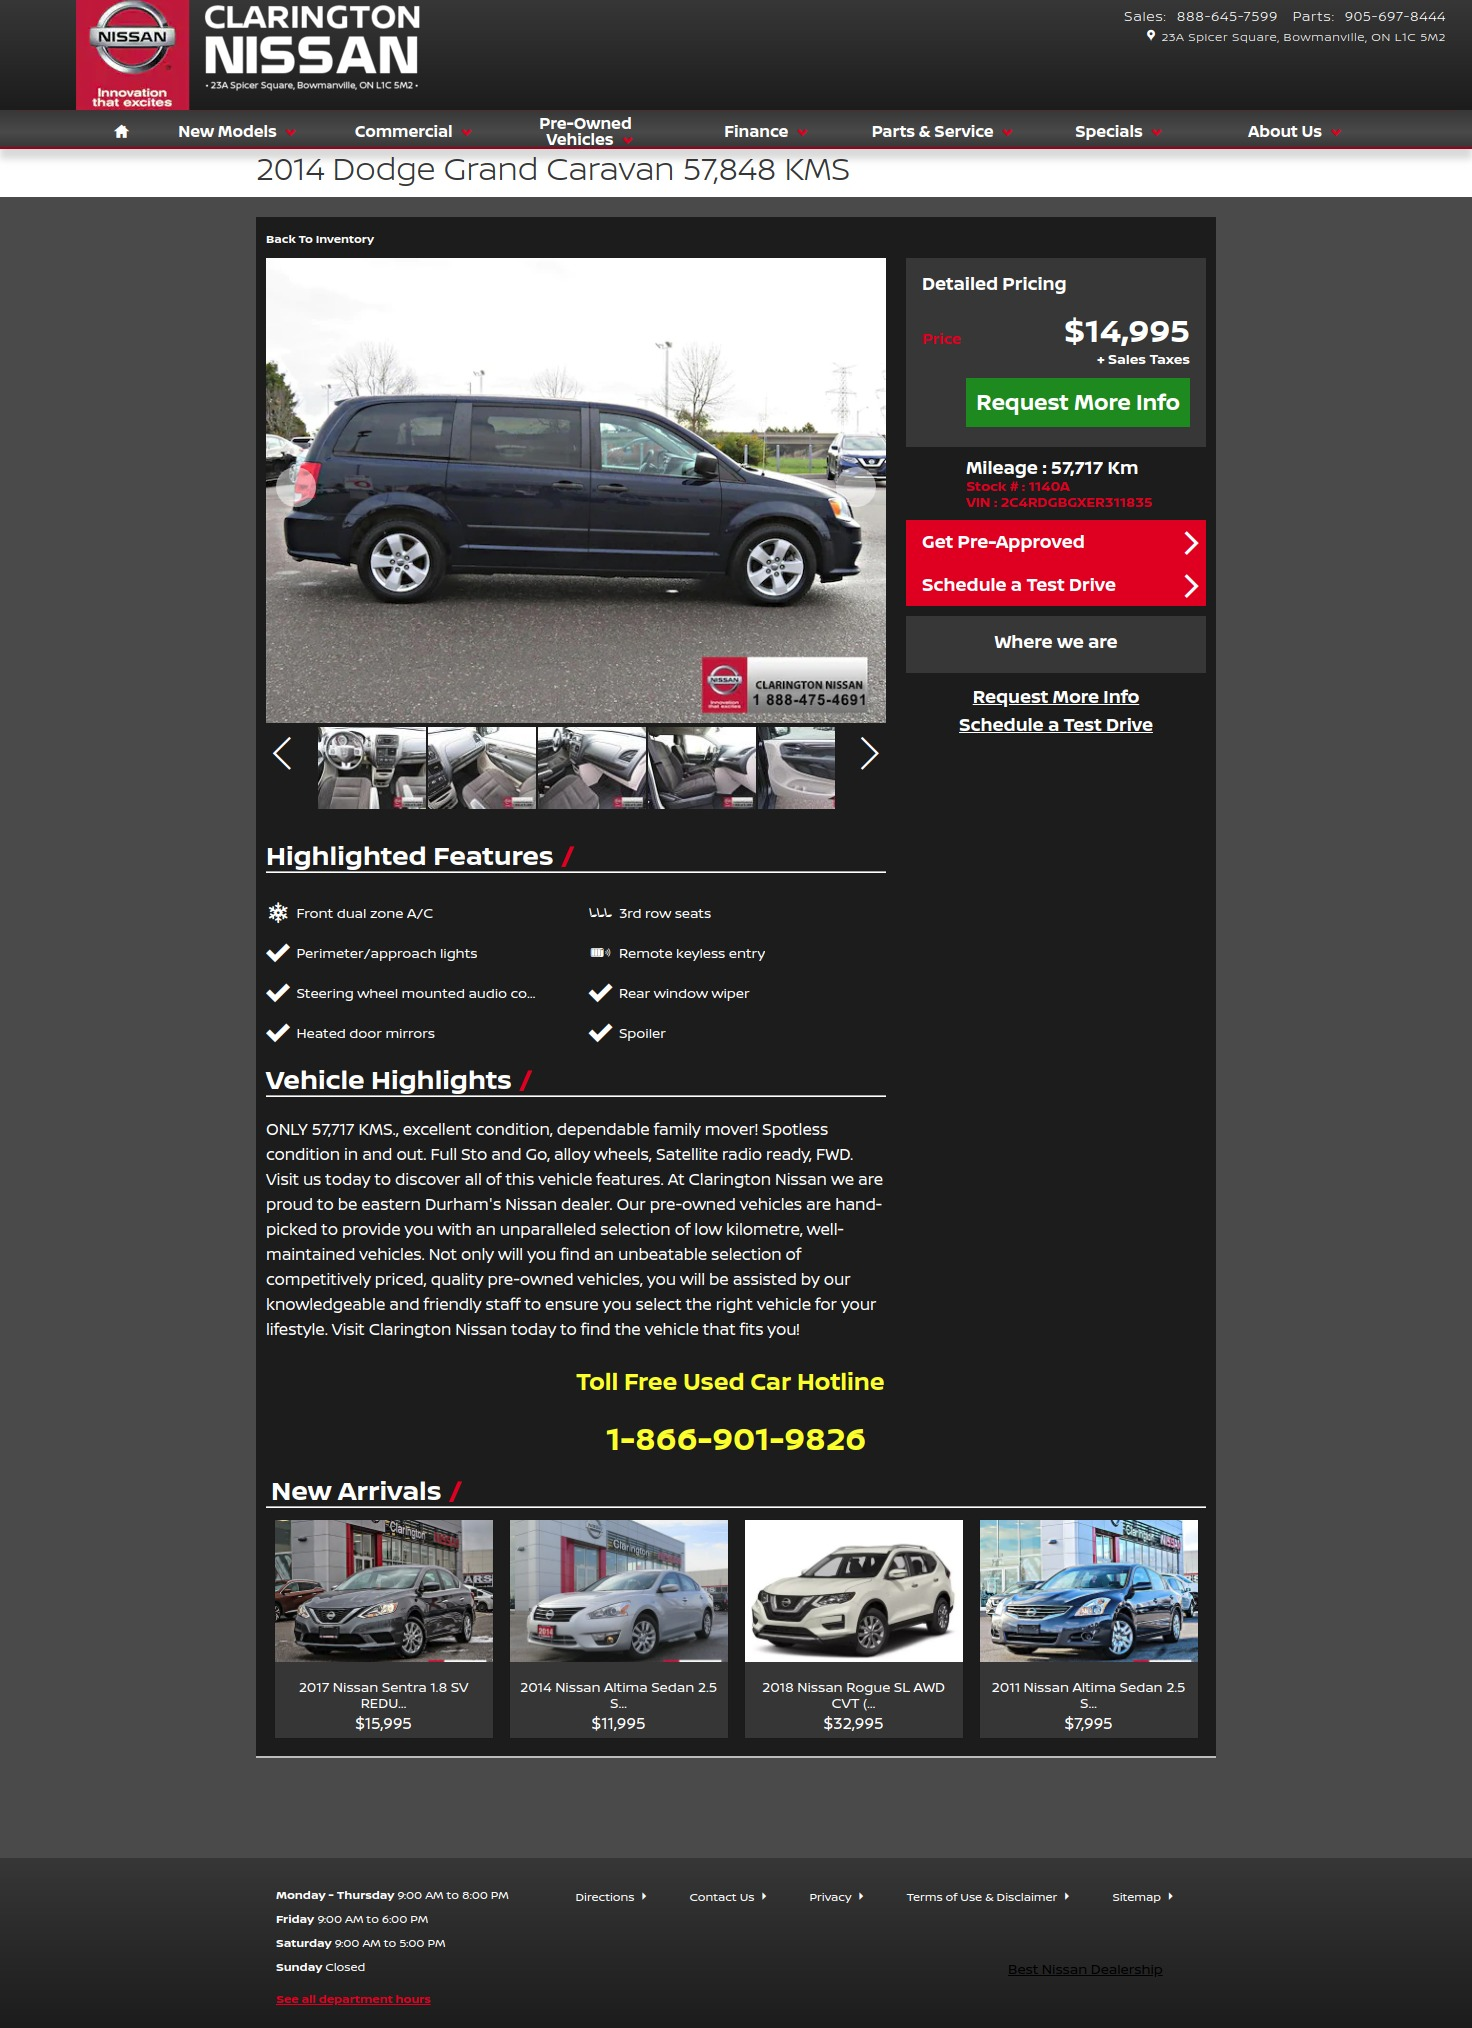car: (860, 738, 878, 770)
